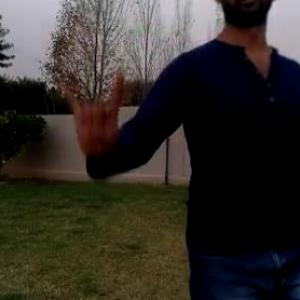takeoff-hand: (63, 60, 126, 172)
